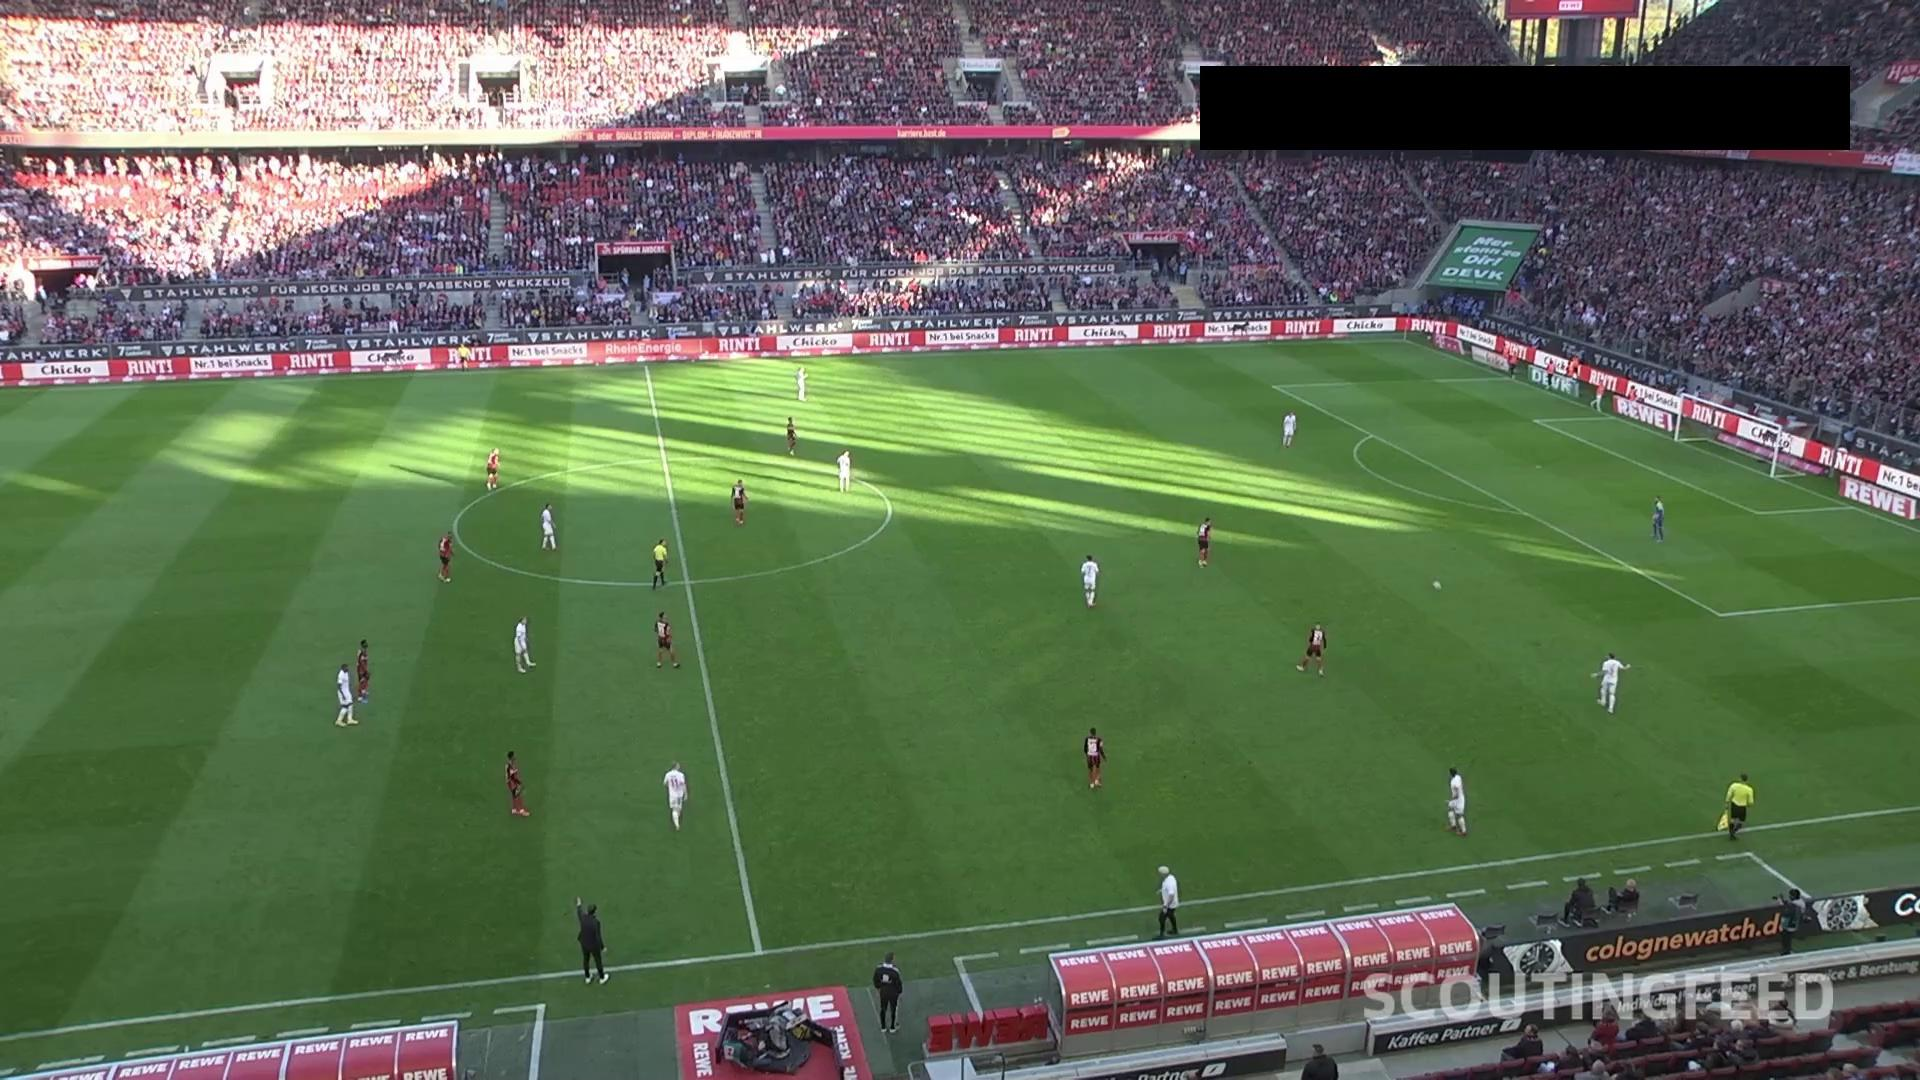Location-of-ball: (1427, 574, 1448, 607)
